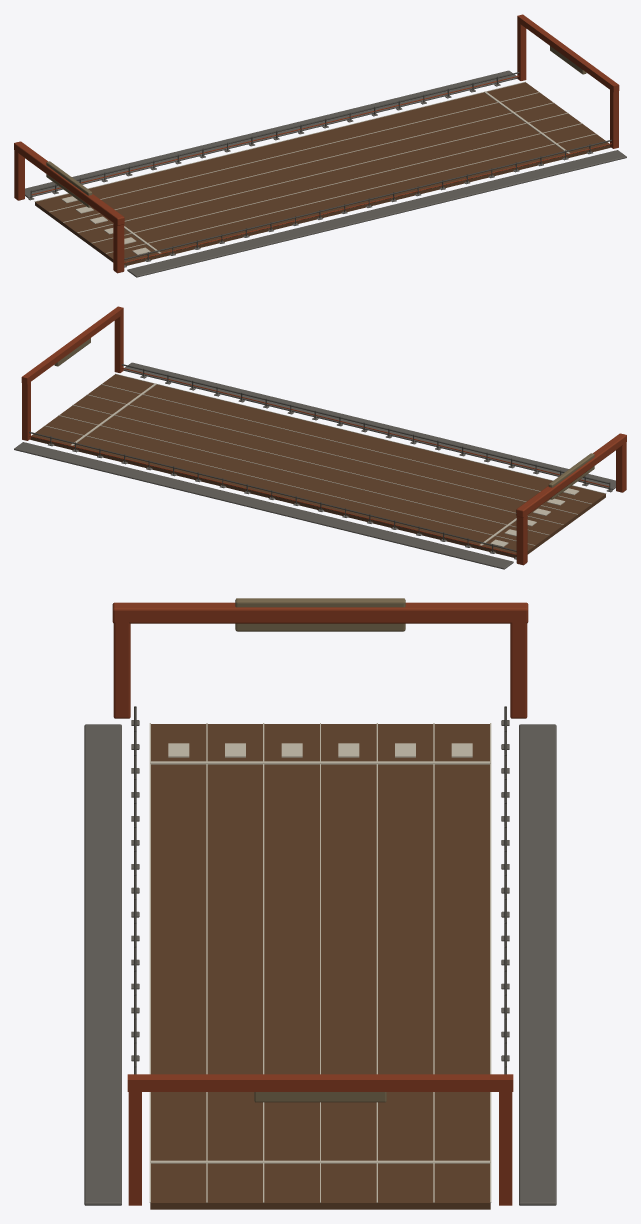
3 renders of one model, top to bottom at view 1: azimuth 30°, elevation 25°; view 2: azimuth 150°, elevation 25°; view 3: azimuth 270°, elevation 25°, orthographic. The views are drawn at different scales.
Parts seen in each view (by area): view 1: RACE_TRACK, TRACK_PLATFORM_-1, TRACK_PLATFORM_1, ENTRANCE_TOP, FINISH_TOP, BARRIER_TOP_-1, BARRIER_TOP_1, BARRIER_MIDDLE_-1, BARRIER_MIDDLE_1, LANE_LINE_1, LANE_LINE_2, LANE_LINE_3 (+8 smaller); view 2: RACE_TRACK, TRACK_PLATFORM_1, TRACK_PLATFORM_-1, ENTRANCE_TOP, FINISH_TOP, BARRIER_TOP_1, BARRIER_TOP_-1, BARRIER_MIDDLE_1, BARRIER_MIDDLE_-1, LANE_LINE_5, LANE_LINE_4, LANE_LINE_2 (+8 smaller); view 3: RACE_TRACK, TRACK_PLATFORM_-1, TRACK_PLATFORM_1, ENTRANCE_TOP, FINISH_TOP, ENTRANCE_SIGN, ENTRANCE_LEFT, ENTRANCE_RIGHT, FINISH_POST_LEFT, FINISH_POST_RIGHT, FINISH_SIGN, FINISH_LINE (+9 smaller).
Part boxes in pixels (x1,y1,x2,y2): RACE_TRACK: [35, 82, 610, 265]; TRACK_PLATFORM_-1: [127, 150, 626, 277]; TRACK_PLATFORM_1: [25, 70, 517, 197]; ENTRANCE_TOP: [14, 141, 124, 225]; FINISH_TOP: [517, 14, 619, 92]; BARRIER_TOP_-1: [124, 139, 611, 259]; BARRIER_TOP_1: [31, 72, 519, 192]; BARRIER_MIDDLE_-1: [124, 143, 611, 262]; BARRIER_MIDDLE_1: [31, 75, 519, 195]; LANE_LINE_1: [105, 133, 596, 253]; LANE_LINE_2: [91, 123, 582, 243]; LANE_LINE_3: [77, 113, 568, 232]; RACE_TRACK: [30, 374, 605, 557]; TRACK_PLATFORM_1: [14, 442, 513, 569]; TRACK_PLATFORM_-1: [123, 362, 615, 489]; ENTRANCE_TOP: [516, 433, 626, 517]; FINISH_TOP: [21, 306, 123, 384]; BARRIER_TOP_1: [29, 431, 516, 551]; BARRIER_TOP_-1: [121, 364, 609, 484]; BARRIER_MIDDLE_1: [29, 435, 516, 554]; BARRIER_MIDDLE_-1: [121, 367, 609, 487]; LANE_LINE_5: [44, 425, 535, 545]; LANE_LINE_4: [58, 415, 549, 535]; LANE_LINE_2: [87, 394, 577, 514]; RACE_TRACK: [150, 724, 490, 1209]; TRACK_PLATFORM_-1: [84, 724, 121, 1205]; TRACK_PLATFORM_1: [519, 724, 556, 1205]; ENTRANCE_TOP: [112, 602, 528, 623]; FINISH_TOP: [127, 1074, 513, 1091]; ENTRANCE_SIGN: [235, 598, 405, 631]; ENTRANCE_LEFT: [113, 618, 130, 718]; ENTRANCE_RIGHT: [510, 618, 527, 718]; FINISH_POST_LEFT: [128, 1086, 141, 1205]; FINISH_POST_RIGHT: [499, 1086, 512, 1205]; FINISH_SIGN: [254, 1092, 386, 1102]; FINISH_LINE: [150, 1160, 490, 1163].
Size of the model in its own units: 6180 by 775 by 2500.
